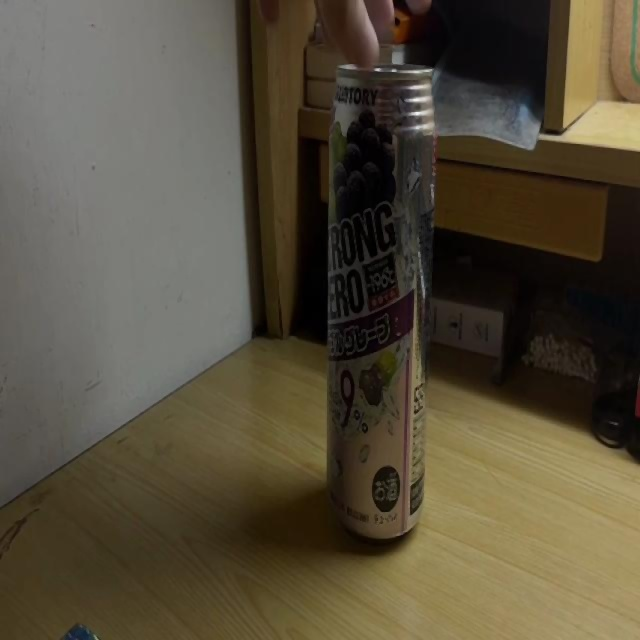Liquor: (328, 64, 436, 544)
